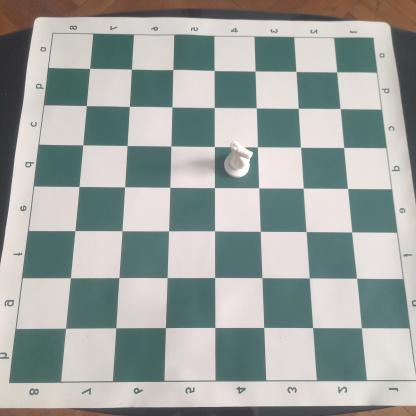white-knight: (220, 140, 255, 178)
